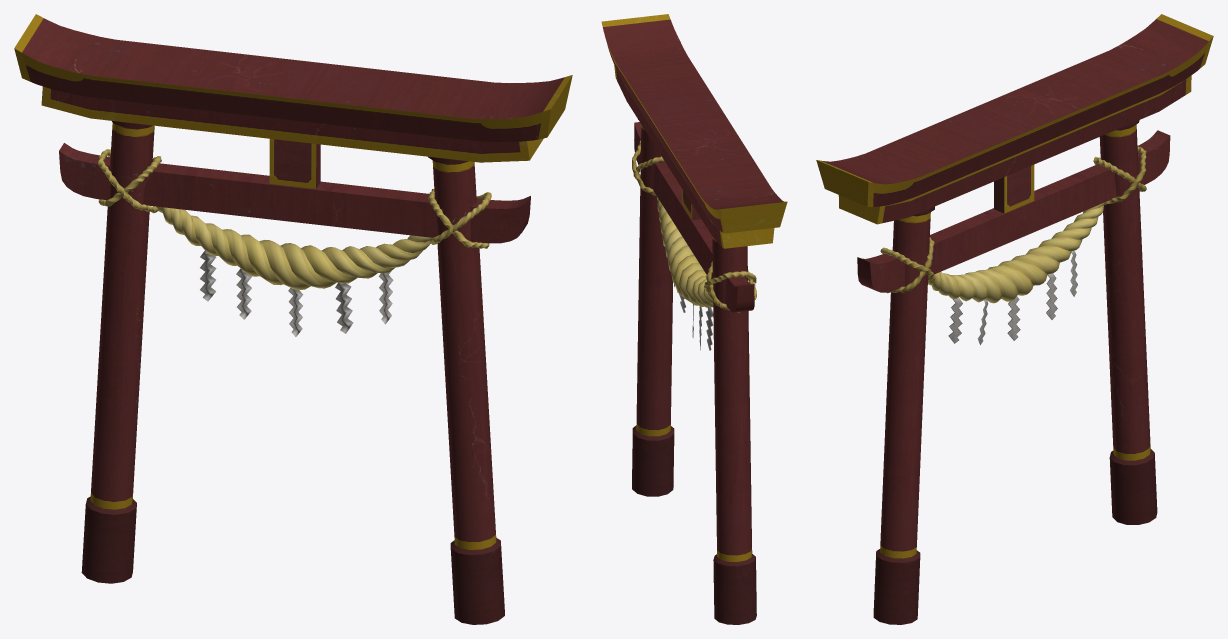
Rendered from SM_ENV_LKNVLD_Shop_Tori.FBX.
The picture shows the model from 3 angles, left to right: view 1: azimuth 30°, elevation 25°; view 2: azimuth 150°, elevation 25°; view 3: azimuth 270°, elevation 25°; orthographic projection. The views are drawn at different scales.
Parts seen in each view (by area): view 1: SM_ENV_LKNVLD_Shop_Tori; view 2: SM_ENV_LKNVLD_Shop_Tori; view 3: SM_ENV_LKNVLD_Shop_Tori.
Part boxes in pixels (x1,y1,x2,y2): SM_ENV_LKNVLD_Shop_Tori: (14, 14, 572, 624); SM_ENV_LKNVLD_Shop_Tori: (601, 14, 787, 624); SM_ENV_LKNVLD_Shop_Tori: (816, 14, 1213, 624).
Bounding box in the file's own units: 812 × 1056 × 812.
